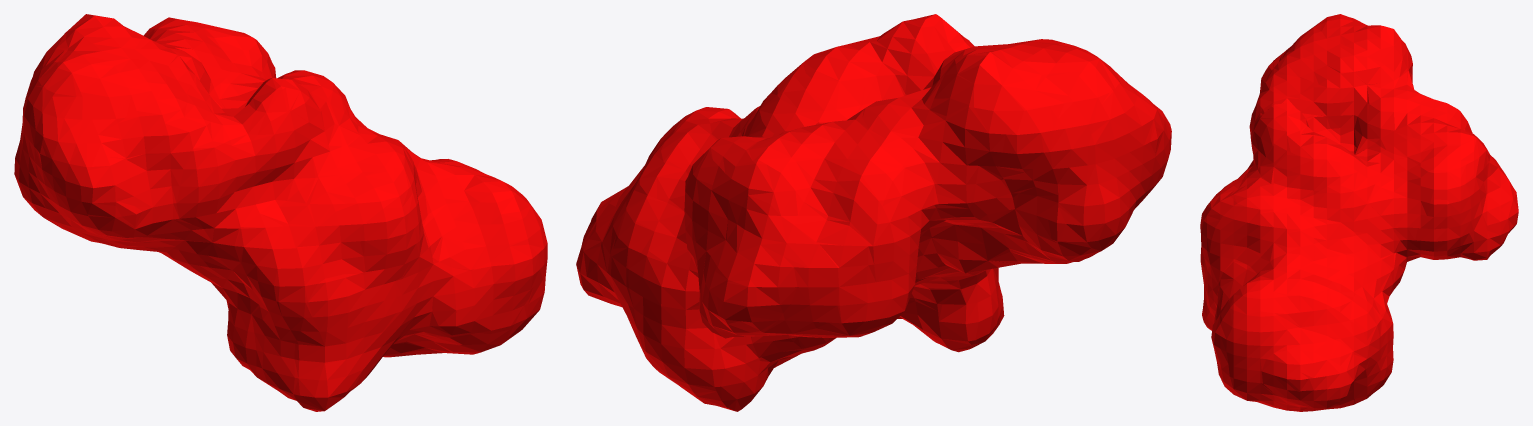
Rendered from rluF_coarse.dae.
The picture shows the model from 3 angles, left to right: view 1: azimuth 30°, elevation 25°; view 2: azimuth 150°, elevation 25°; view 3: azimuth 270°, elevation 25°; orthographic projection. The views are drawn at different scales.
Parts seen in each view (by area): view 1: rluF; view 2: rluF; view 3: rluF.
Part boxes in pixels (left/top/right/bottom): rluF: left=14, top=14, right=547, bottom=411; rluF: left=576, top=14, right=1171, bottom=411; rluF: left=1200, top=14, right=1518, bottom=411.
Size of the model in its own units: 76.32 by 55.9 by 56.53.
